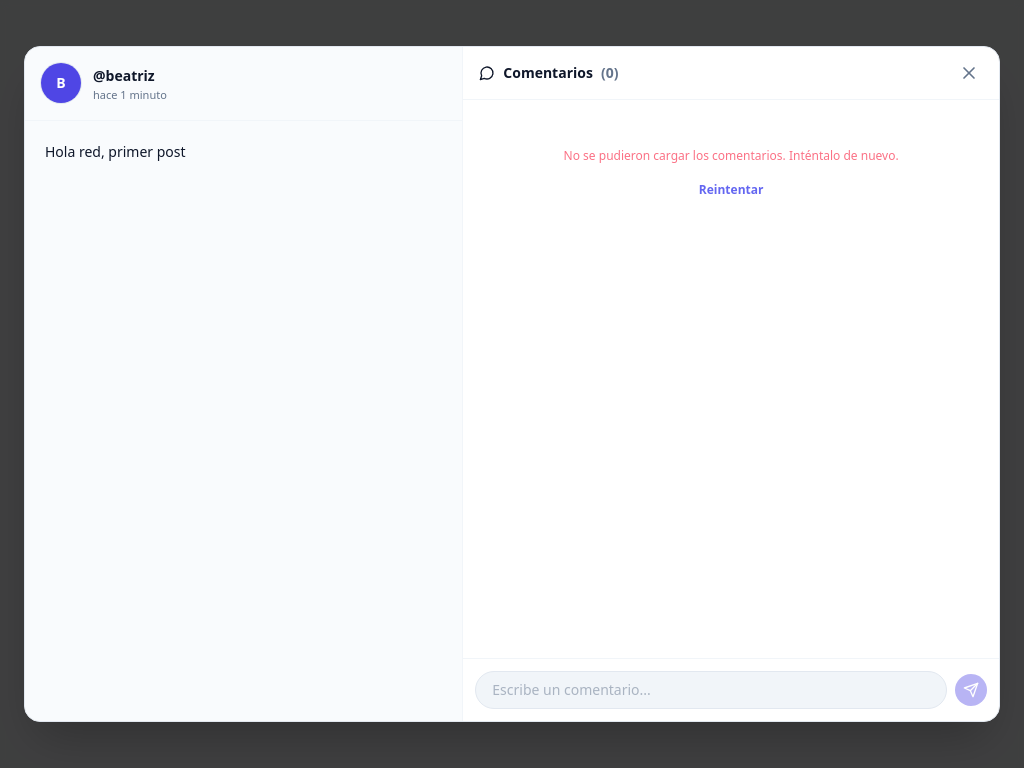
Test case: ComentariosModal › avisa cuando la carga falla y permite reintentar
Expected: the text "No se pudieron cargar los comentarios. Inténtalo de nuevo." is shown, [564,147,899,164]
Click the button "Reintentar": (731, 190) [699,182,764,198]
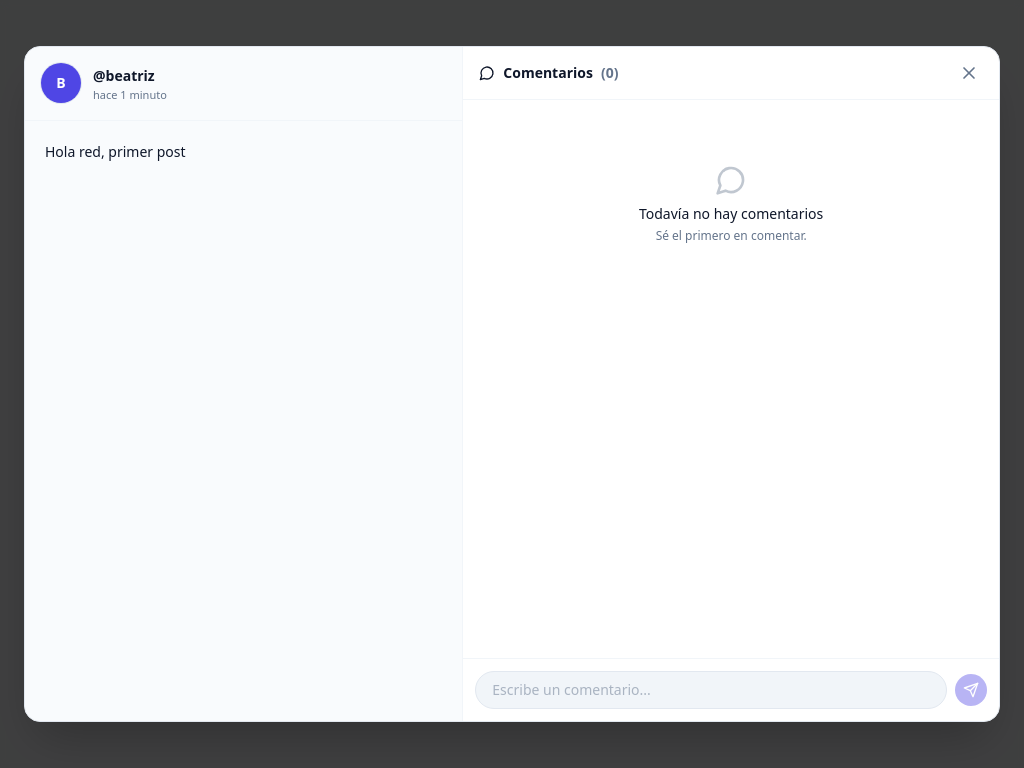
Expected: the text "Todavía no hay comentarios" is shown, [639,204,823,223]
